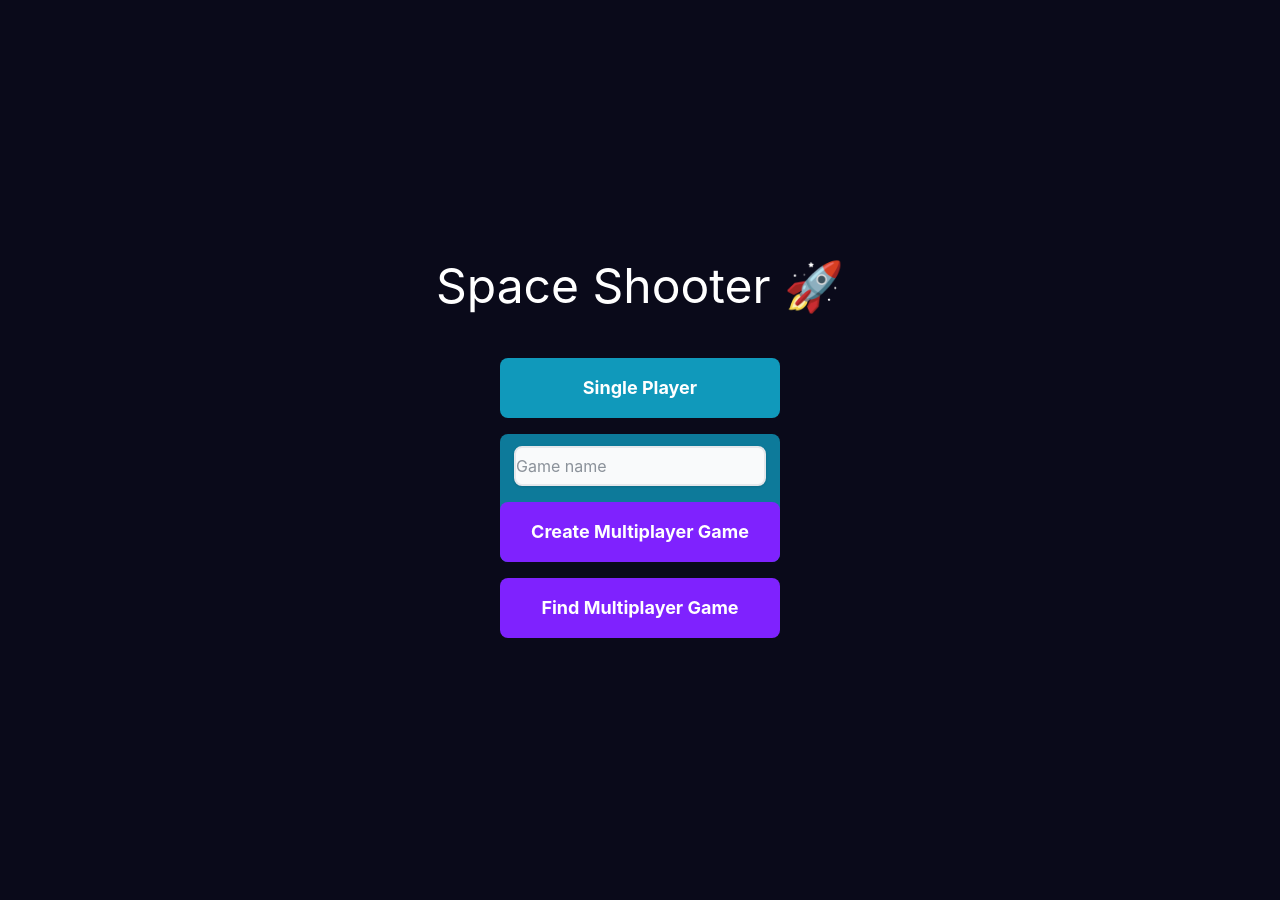
ModeSelection › shows a toast error when joining a game fails
This screenshot has width=1280, height=900.
Click the button "Find Multiplayer Game": (640, 608) [500, 578, 780, 638]
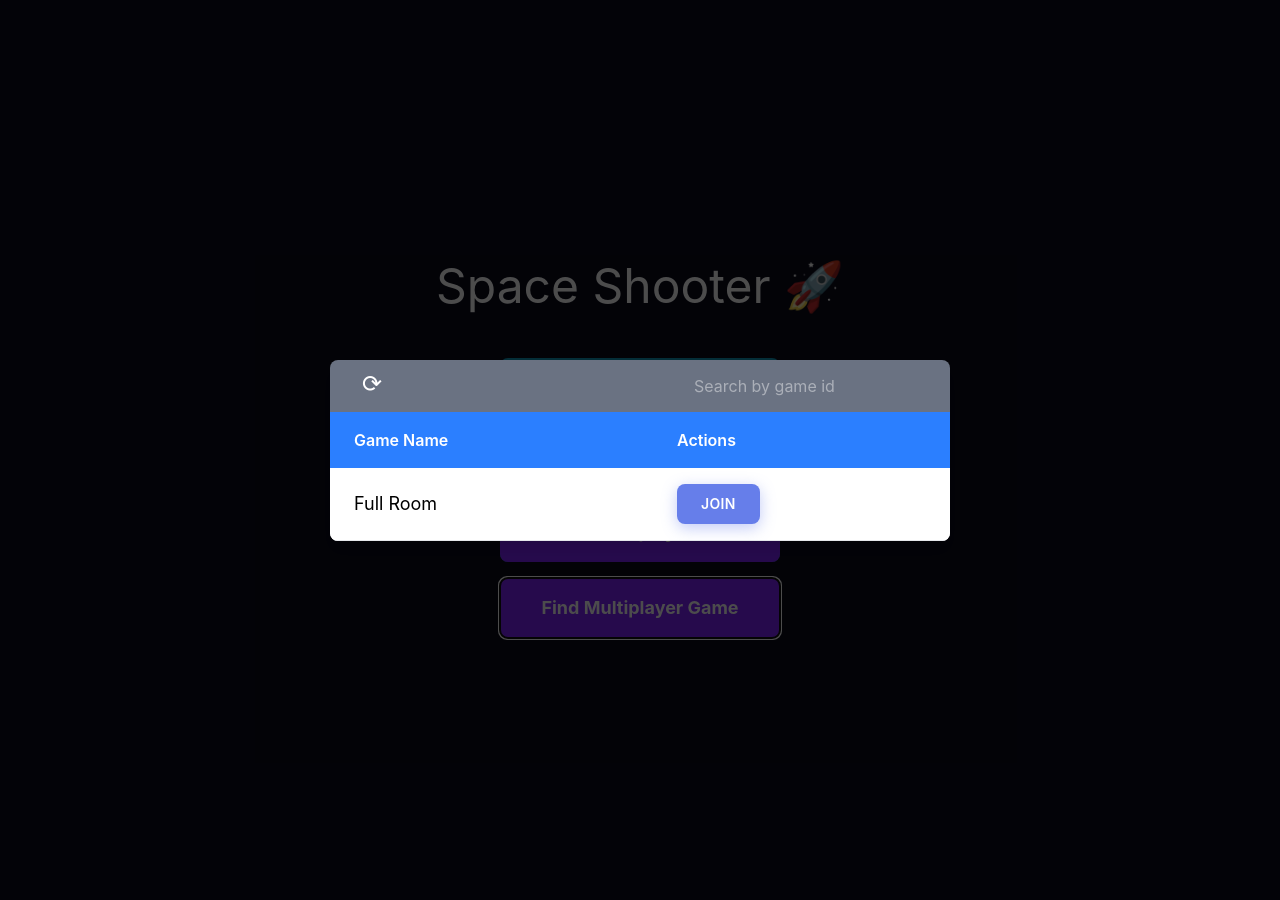
Click the button "Join": (718, 504) [677, 484, 760, 524]
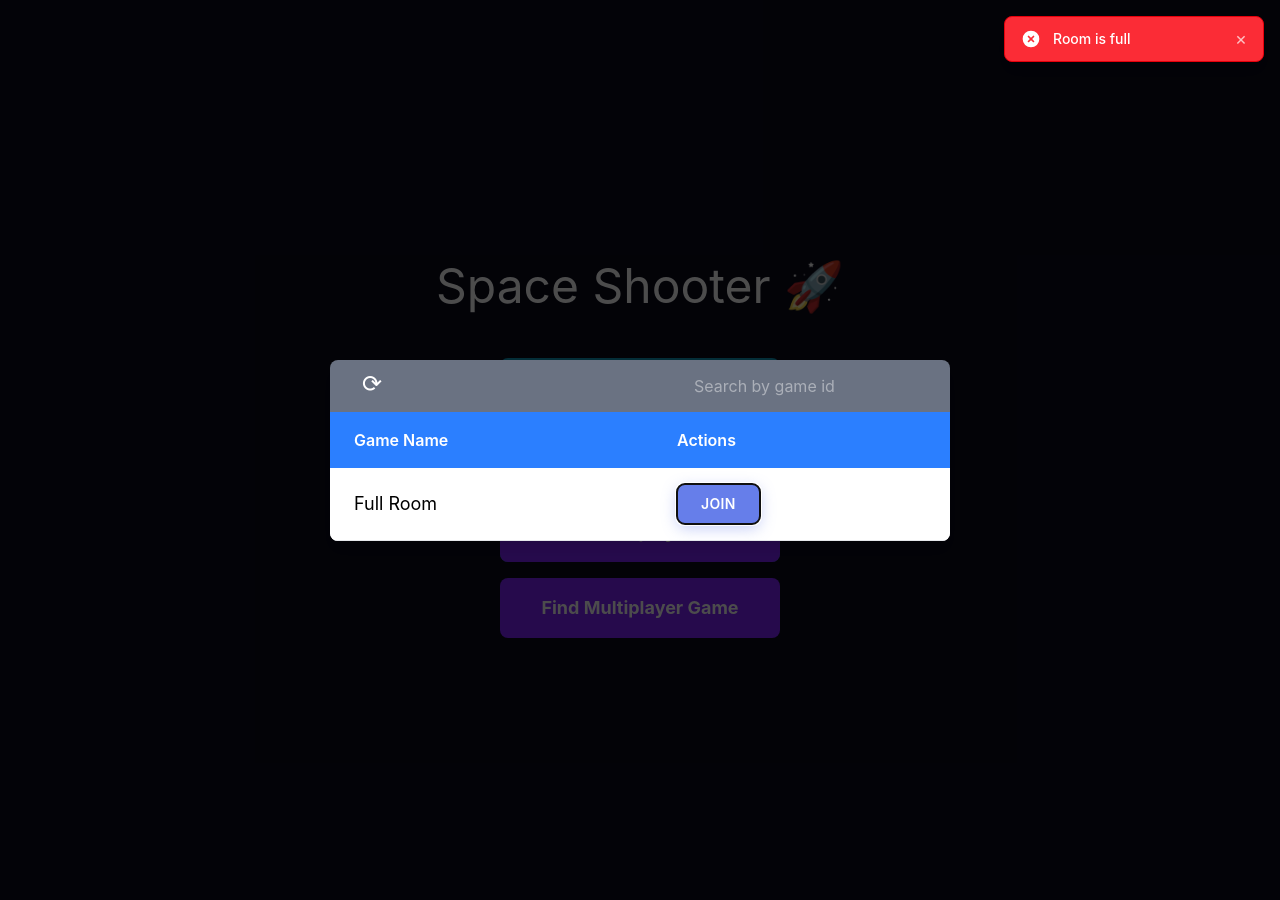
Result: the text "Room is full" is shown at [1053, 30, 1130, 47]
